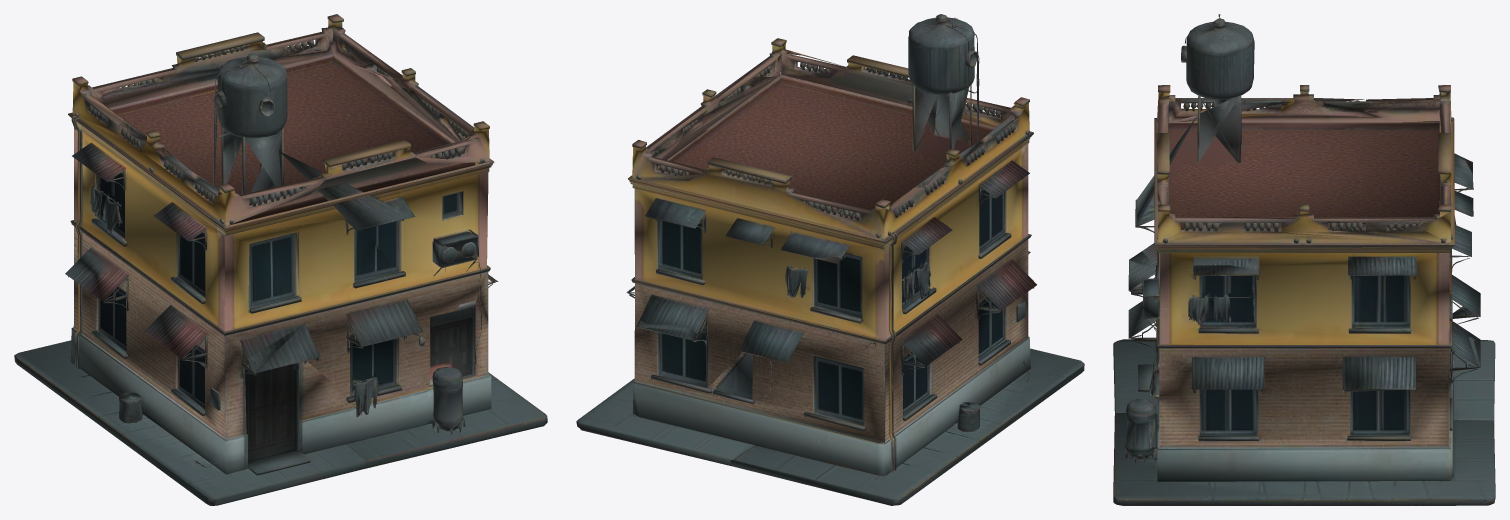
3 views of the same model, side by side, from view 1: azimuth 30°, elevation 25°; view 2: azimuth 150°, elevation 25°; view 3: azimuth 270°, elevation 25° (orthographic). The views are drawn at different scales.
Size of the model in its own units: 0.8756 by 0.9521 by 0.8847.
Materials: 1 (1 with a texture image).
